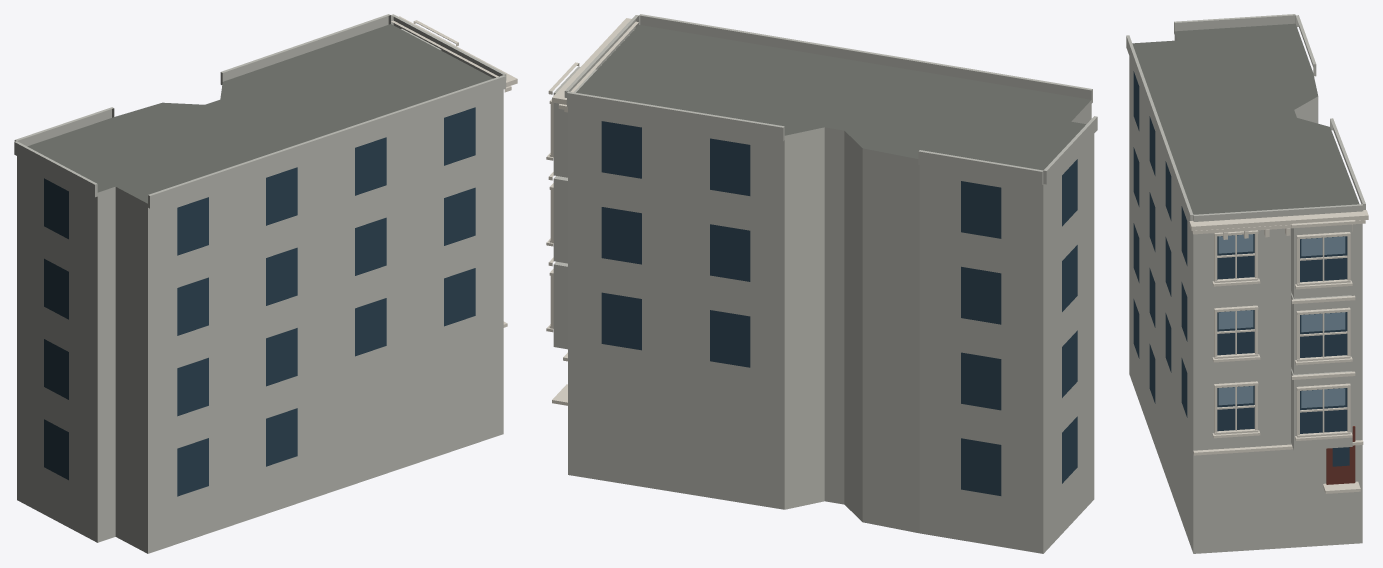
3 renders of one model, left to right at view 1: azimuth 30°, elevation 25°; view 2: azimuth 150°, elevation 25°; view 3: azimuth 270°, elevation 25°, orthographic. The views are drawn at different scales.
Parts seen in each view (by area): view 1: Footprint 0 / surface 2, Footprint 0 / surface 1, Inset glazing, Facade bay volumes, Cornices and window frames; view 2: Footprint 0 / surface 2, Footprint 0 / surface 1, Inset glazing, Facade bay volumes, Cornices and window frames; view 3: Footprint 0 / surface 2, Footprint 0 / surface 1, Inset glazing, Cornices and window frames, Facade bay volumes, Sky reflection panels, Storefronts and doors.
Boxes of the visible parts, left/top/right/bottom form: Footprint 0 / surface 2: left=17, top=89, right=503, bottom=553; Footprint 0 / surface 1: left=27, top=24, right=493, bottom=203; Inset glazing: left=44, top=107, right=475, bottom=496; Facade bay volumes: left=14, top=14, right=506, bottom=208; Cornices and window frames: left=391, top=16, right=517, bottom=327; Footprint 0 / surface 2: left=568, top=100, right=1094, bottom=553; Footprint 0 / surface 1: left=576, top=25, right=1090, bottom=170; Inset glazing: left=601, top=121, right=1077, bottom=495; Facade bay volumes: left=553, top=14, right=1097, bottom=349; Cornices and window frames: left=546, top=18, right=638, bottom=405; Footprint 0 / surface 2: left=1129, top=32, right=1362, bottom=553; Footprint 0 / surface 1: left=1132, top=23, right=1359, bottom=214; Inset glazing: left=1133, top=71, right=1349, bottom=466; Cornices and window frames: left=1189, top=210, right=1368, bottom=493; Facade bay volumes: left=1126, top=14, right=1365, bottom=450; Sky reflection panels: left=1218, top=234, right=1345, bottom=407; Storefronts and doors: left=1326, top=426, right=1355, bottom=484.
Bounding box in the file's own units: 18.56 × 14.2 × 9.2.
